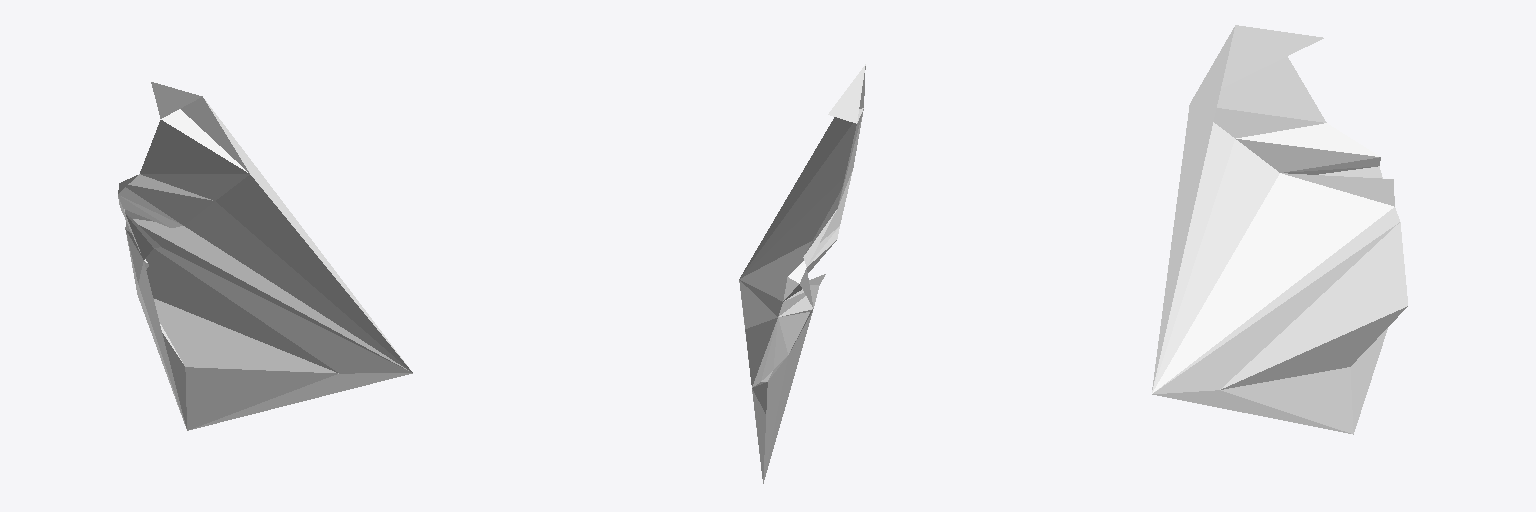
Rendered from bomb.obj.
3 views of the same model, side by side, from view 1: azimuth 30°, elevation 25°; view 2: azimuth 150°, elevation 25°; view 3: azimuth 270°, elevation 25° (orthographic).
Size of the model in its own units: 2.42 by 4.82 by 2.89.